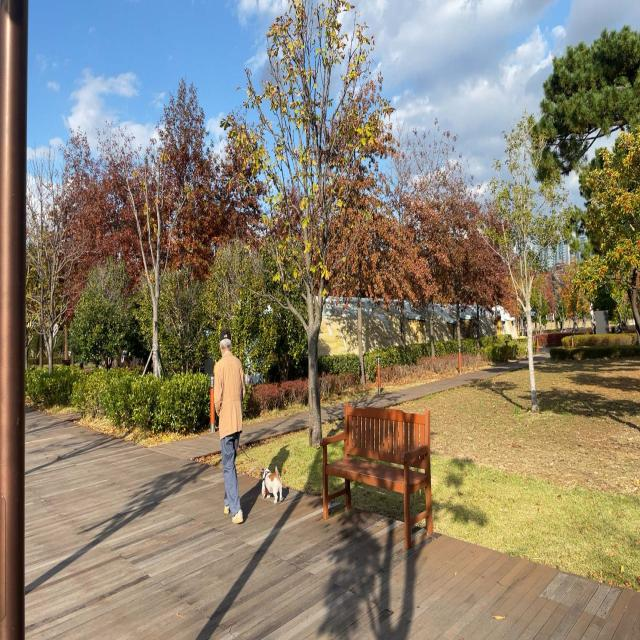Leashed_Dog: (219, 420, 283, 504)
